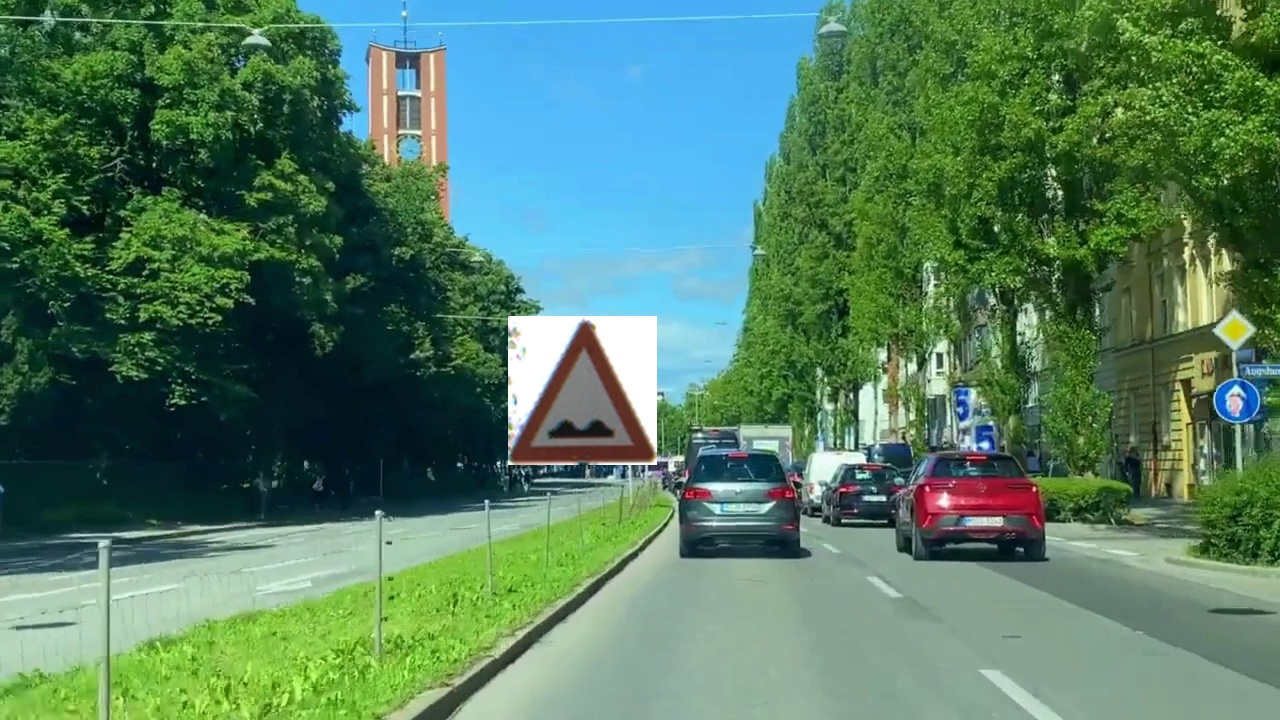Bumpy road: (508, 316, 657, 465)
